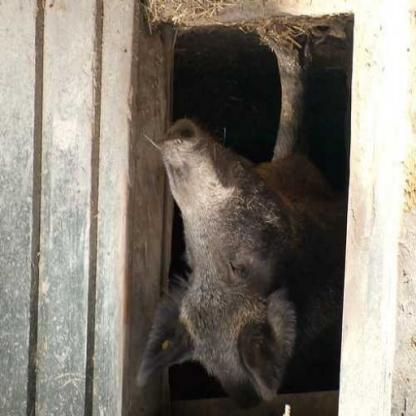boar: (145, 11, 369, 390)
